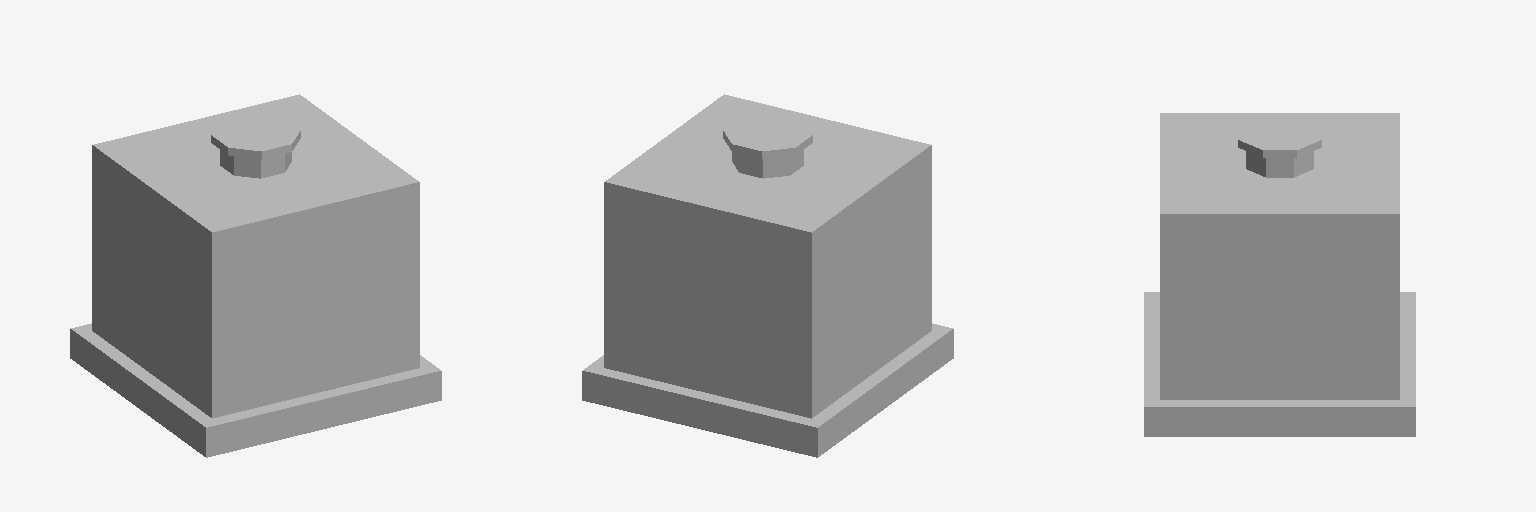
Rendered from pipeworks_pump_lowpoly.obj.
3 views of the same model, side by side, from view 1: azimuth 30°, elevation 25°; view 2: azimuth 150°, elevation 25°; view 3: azimuth 270°, elevation 25° (orthographic).
Parts seen in each view (by area): view 1: Cube; view 2: Cube; view 3: Cube.
Part boxes in pixels (bbox=[...]): Cube: bbox=[70, 94, 441, 457]; Cube: bbox=[582, 94, 953, 457]; Cube: bbox=[1144, 113, 1415, 436].
Size of the model in its own units: 0.9922 by 0.9961 by 0.9922.